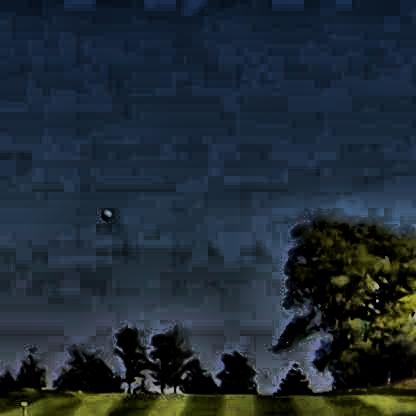golfball: (98, 206, 109, 217)
